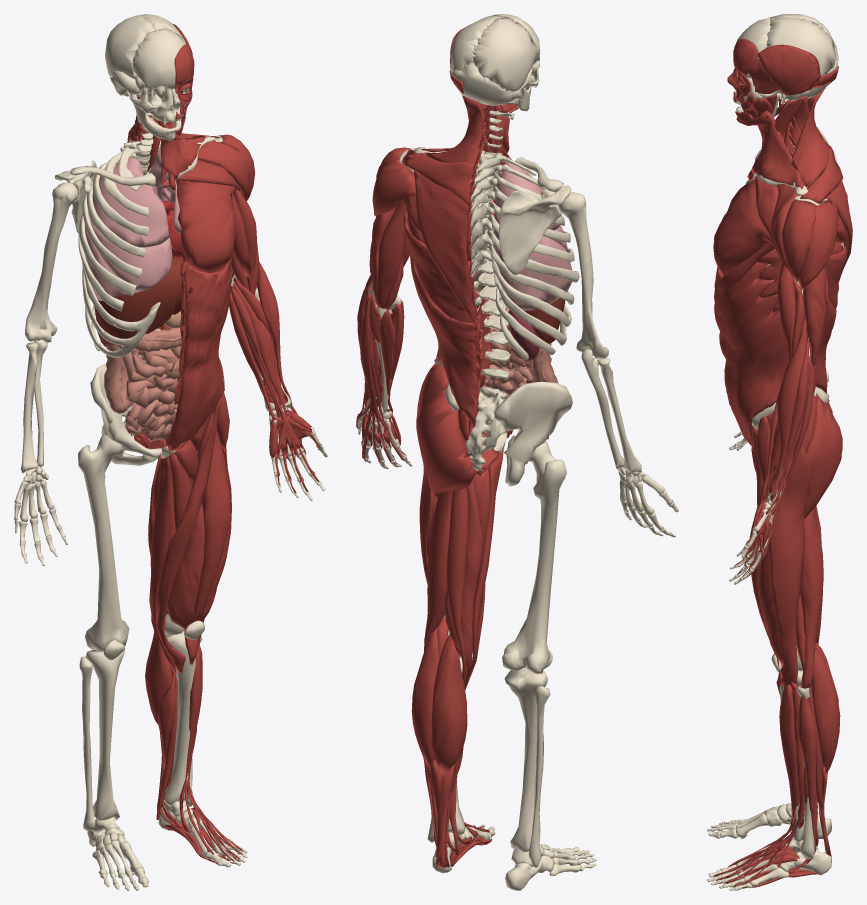
File: hero.glb
3 views of the same model, side by side, from view 1: azimuth 30°, elevation 25°; view 2: azimuth 150°, elevation 25°; view 3: azimuth 270°, elevation 25° (orthographic). The views are drawn at different scales.
Parts seen in each view (by area): view 1: muscle_mesh, bone_mesh, lung_right, small_intestine, liver, large_intestine, lung_left; view 2: muscle_mesh, bone_mesh, lung_right, small_intestine, large_intestine; view 3: muscle_mesh, bone_mesh.
Part boxes in pixels (x1,y1,x2,y2): muscle_mesh: [127, 24, 320, 864]; bone_mesh: [14, 14, 327, 890]; lung_right: [85, 156, 172, 300]; small_intestine: [120, 327, 180, 442]; liver: [94, 256, 183, 344]; large_intestine: [104, 328, 181, 413]; lung_left: [149, 150, 188, 234]; muscle_mesh: [356, 27, 518, 868]; bone_mesh: [357, 14, 678, 890]; lung_right: [493, 162, 572, 310]; small_intestine: [477, 305, 551, 431]; large_intestine: [475, 291, 558, 424]; muscle_mesh: [713, 38, 852, 888]; bone_mesh: [707, 14, 843, 890].
Size of the model in its own units: 0.6482 by 1.64 by 0.2586.
